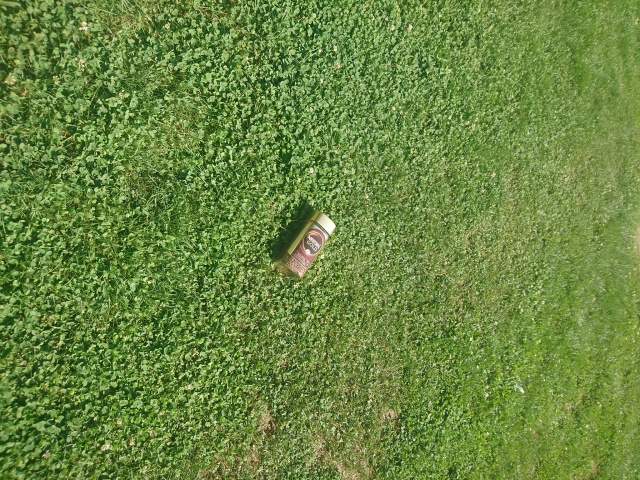Nescafe Gold 225g: (269, 208, 339, 282)
